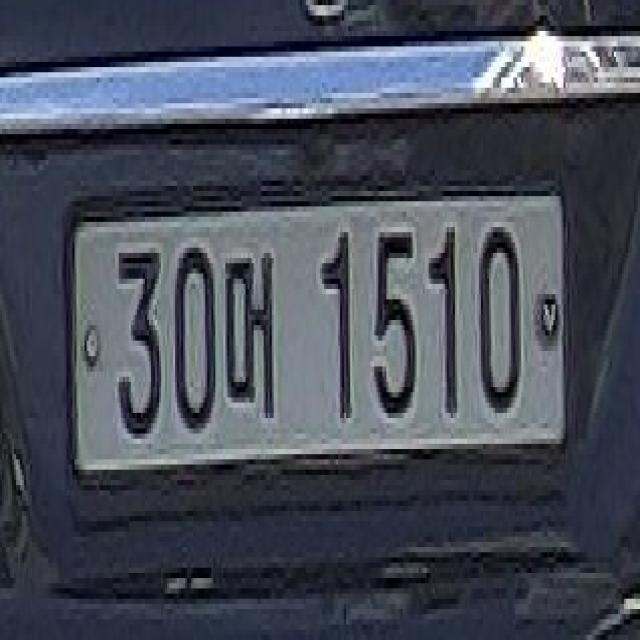0: (169, 242, 219, 433), (477, 217, 521, 413)
1: (316, 222, 352, 428), (429, 217, 459, 418)
3: (117, 237, 165, 444)
5: (368, 227, 423, 423)
license_plate: (62, 176, 574, 485)
meo: (223, 242, 278, 428)
